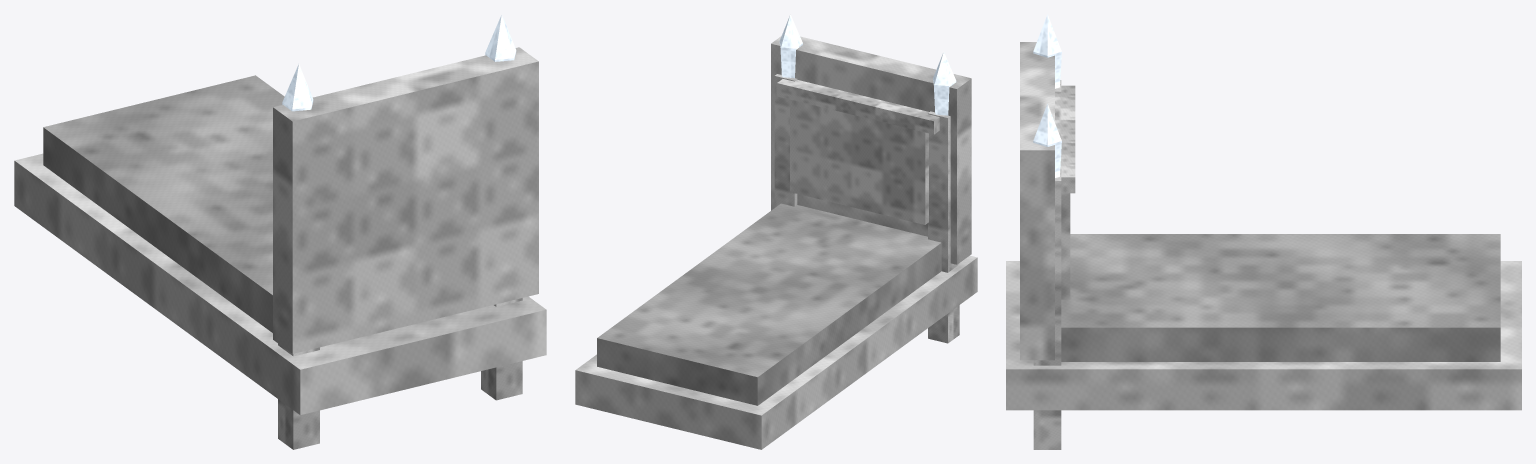
File: furniture-crystal-bed.glb
The picture shows the model from 3 angles, left to right: view 1: azimuth 30°, elevation 25°; view 2: azimuth 150°, elevation 25°; view 3: azimuth 270°, elevation 25°; orthographic projection. The views are drawn at different scales.
Visible parts, largest first — view 1: headboard, mattress, frame, post--0.42, post-0.42, finial--0.42, finial-0.42; view 2: mattress, frame, head-stone, headboard, post--0.42, head-band, post-0.42, finial-0.42, finial--0.42; view 3: mattress, frame, headboard, post-0.42, head-band, head-stone, finial--0.42, finial-0.42.
Part boxes in pixels (bbox=[...]): headboard: bbox=[273, 47, 538, 353]; mattress: bbox=[43, 75, 284, 332]; frame: bbox=[14, 153, 546, 415]; post--0.42: bbox=[278, 343, 319, 449]; post-0.42: bbox=[481, 298, 522, 400]; finial--0.42: bbox=[282, 64, 313, 111]; finial-0.42: bbox=[485, 14, 516, 61]; mattress: bbox=[597, 203, 941, 405]; frame: bbox=[575, 255, 977, 449]; head-stone: bbox=[790, 99, 928, 224]; headboard: bbox=[771, 36, 971, 264]; post--0.42: bbox=[928, 111, 959, 343]; head-band: bbox=[777, 79, 939, 134]; post-0.42: bbox=[774, 74, 797, 207]; finial-0.42: bbox=[779, 14, 802, 78]; finial--0.42: bbox=[933, 52, 956, 115]; mattress: bbox=[1061, 234, 1500, 361]; frame: bbox=[1006, 261, 1521, 410]; headboard: bbox=[1020, 42, 1054, 360]; post-0.42: bbox=[1033, 169, 1061, 449]; head-band: bbox=[1055, 85, 1075, 193]; head-stone: bbox=[1061, 193, 1070, 299]; finial--0.42: bbox=[1033, 14, 1061, 88]; finial-0.42: bbox=[1033, 104, 1061, 177].
Size of the model in its own units: 1.02 by 1.49 by 2.05.
Materials: 6 (6 with a texture image).
